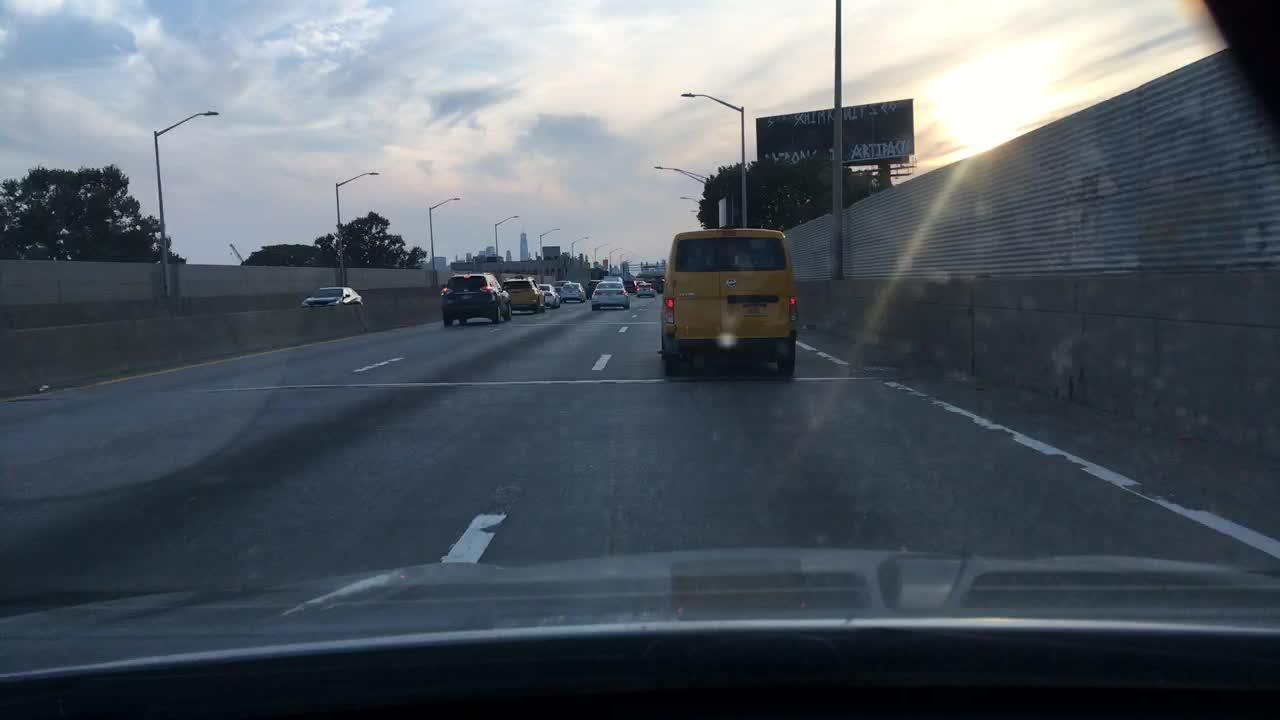Nissan: (724, 273, 740, 292)
